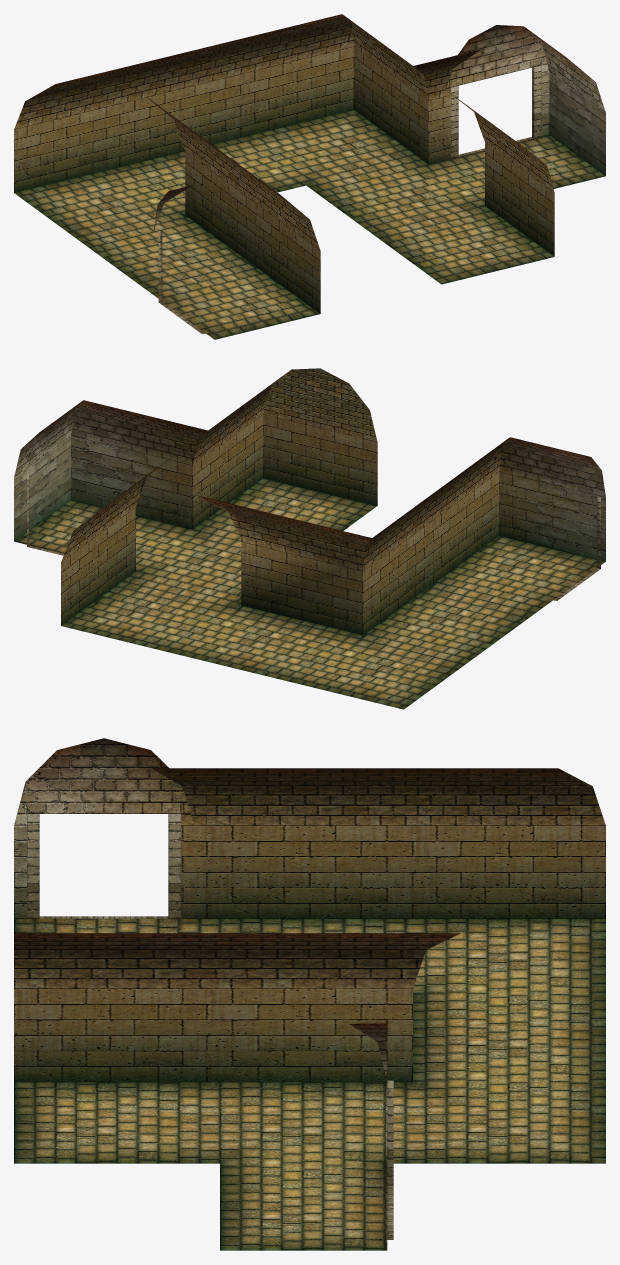
File: MISSION12_INTERIORROOMS02.glb
The picture shows the model from 3 angles, top to bottom: view 1: azimuth 30°, elevation 25°; view 2: azimuth 150°, elevation 25°; view 3: azimuth 270°, elevation 25°; orthographic projection. The views are drawn at different scales.
Visible parts, largest first — view 1: MISSION12_INTERIORROOMS02; view 2: MISSION12_INTERIORROOMS02; view 3: MISSION12_INTERIORROOMS02.
Part boxes in pixels (x1,y1,x2,y2): MISSION12_INTERIORROOMS02: (14, 14, 605, 339); MISSION12_INTERIORROOMS02: (14, 368, 605, 709); MISSION12_INTERIORROOMS02: (14, 738, 605, 1250).
Bounding box in the file's own units: 15.38 × 3.88 × 11.5.
10 materials, 10 textured.
